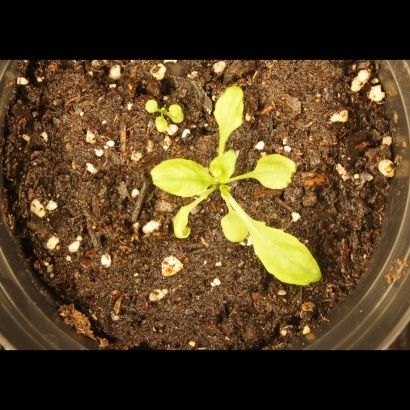leaf: (245, 217, 328, 285), (143, 147, 211, 196), (211, 78, 250, 141), (248, 149, 300, 192), (164, 206, 199, 249), (216, 206, 253, 245), (210, 148, 242, 187), (137, 95, 160, 118), (168, 102, 191, 125), (149, 116, 172, 139)
